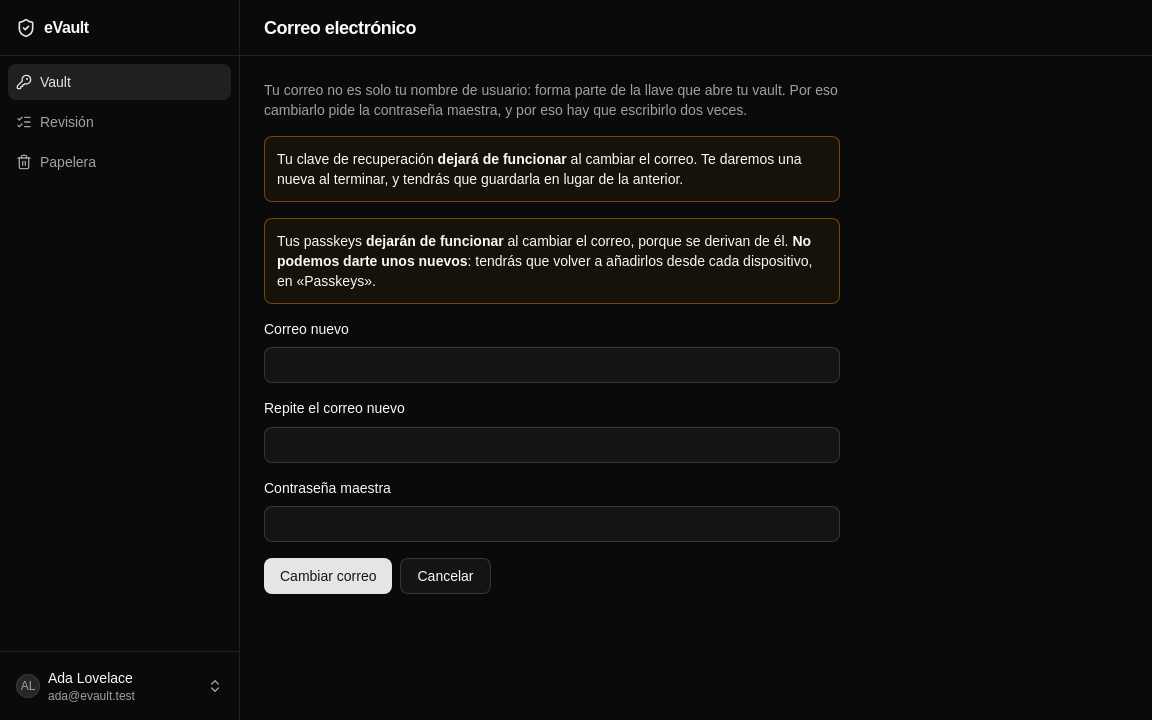
the recovery key › hands over the new key at the end, to be copied
Type "ada.lovelace@evault.test" into the field labelled "Correo nuevo".
click(552, 365); type("ada.lovelace@evault.test")  # box [264,347,840,383]
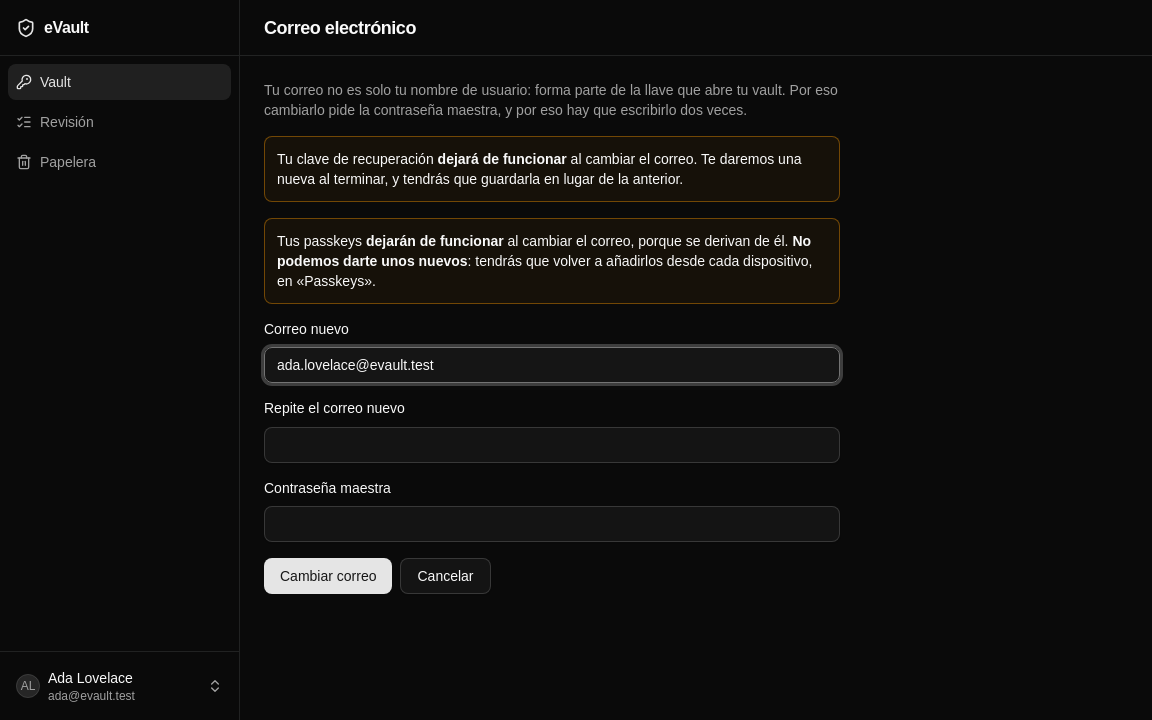
Type "ada.lovelace@evault.test" into the field labelled "Repite el correo nuevo".
click(552, 444); type("ada.lovelace@evault.test")  # box [264,426,840,462]
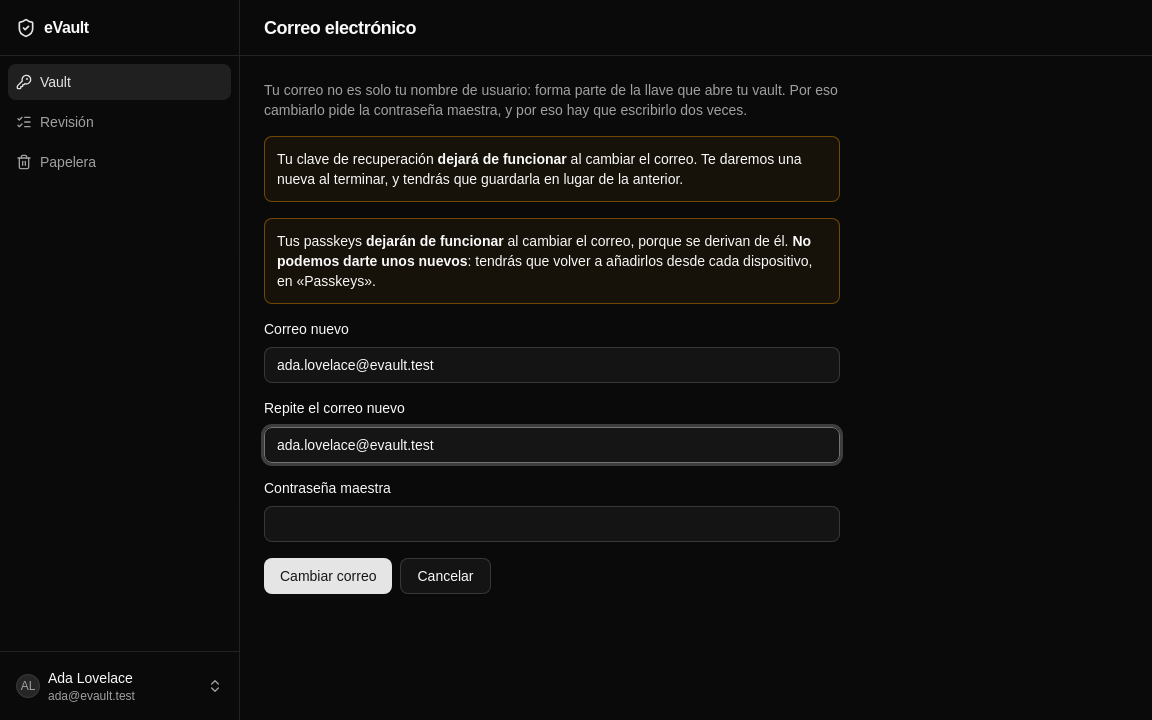
Type "la contraseña" into the password field labelled "Contraseña maestra".
click(552, 524); type("la contraseña")  # box [264,506,840,542]
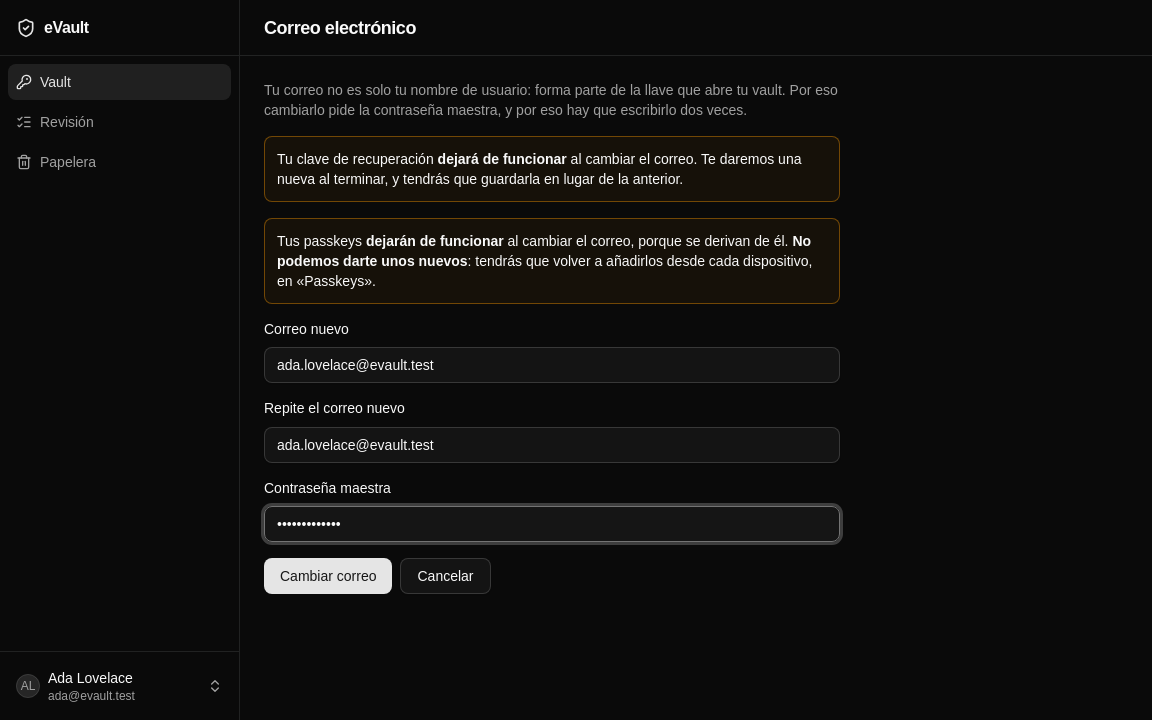
Click the button "Cambiar correo".
click(328, 576)  # box [264,558,392,594]
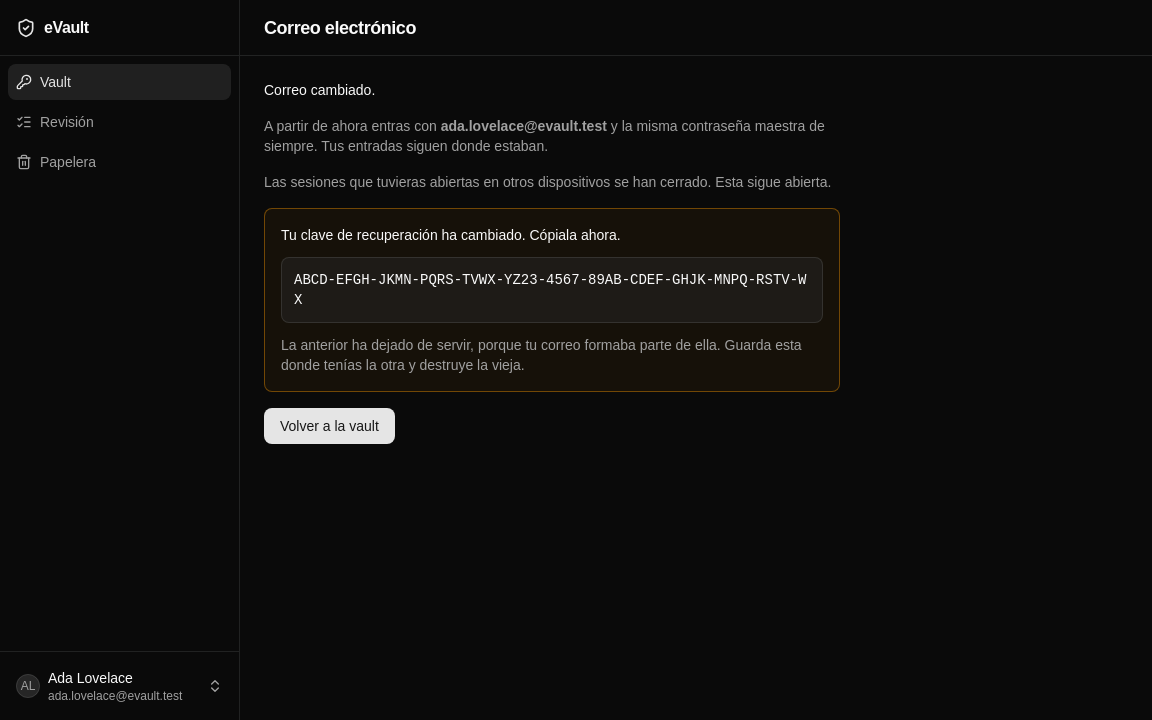
Check: the text with test id "recovery-key" reads "ABCD-EFGH-JKMN-PQRS-TVWX-YZ23-4567-89AB-CDEF-GHJK-MNPQ-RSTV-WX", box [294,272,806,308]
Check: the text "anterior ha dejado de servir" is shown, box [281,337,802,373]
